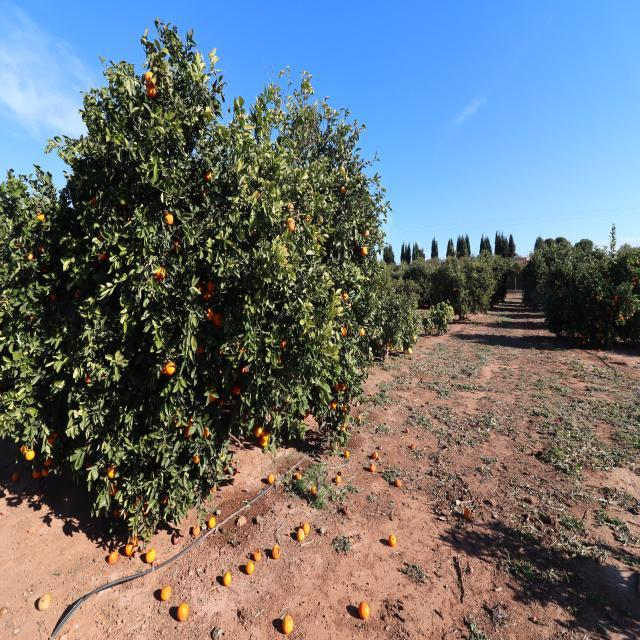Jeruk Sudah Matang: (146, 86, 158, 99), (145, 72, 156, 85), (209, 386, 216, 404), (166, 362, 176, 374), (204, 308, 214, 320), (213, 313, 222, 326), (286, 218, 295, 230), (25, 450, 35, 460), (164, 213, 173, 224), (157, 268, 166, 278), (48, 434, 57, 444), (108, 466, 116, 477), (255, 426, 262, 438), (207, 282, 216, 291), (262, 431, 269, 442), (287, 203, 294, 214), (99, 252, 108, 260), (184, 428, 192, 437), (41, 469, 50, 477), (205, 172, 212, 182), (280, 338, 286, 349), (260, 439, 268, 447), (110, 486, 118, 494), (44, 458, 52, 466), (36, 212, 44, 220), (26, 252, 34, 260), (362, 246, 368, 256), (193, 456, 200, 464), (187, 420, 194, 428), (233, 386, 240, 394), (32, 471, 40, 478), (195, 284, 202, 292), (20, 446, 28, 452), (50, 293, 56, 301), (204, 294, 212, 300), (335, 383, 340, 392), (342, 328, 347, 337), (304, 411, 310, 418), (340, 187, 346, 194), (341, 382, 346, 390), (364, 230, 370, 236), (332, 400, 336, 408), (306, 214, 310, 222), (361, 327, 365, 335), (343, 294, 348, 300), (341, 326, 344, 334), (348, 302, 352, 308)
